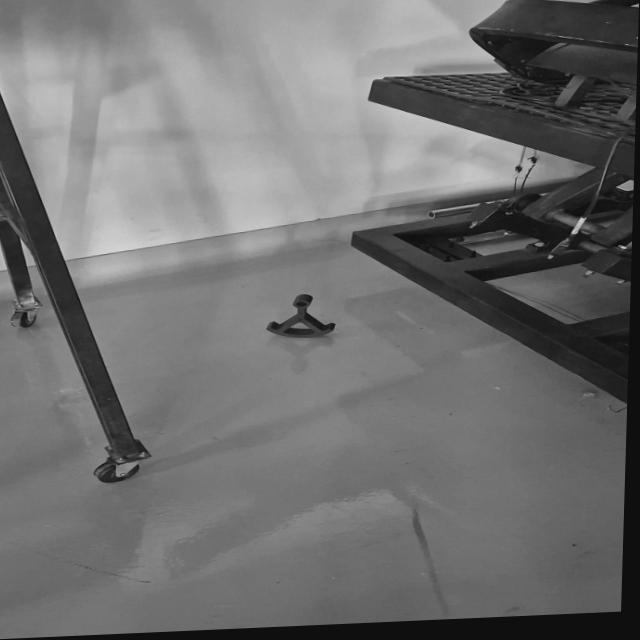haptic: (265, 292, 338, 341)
